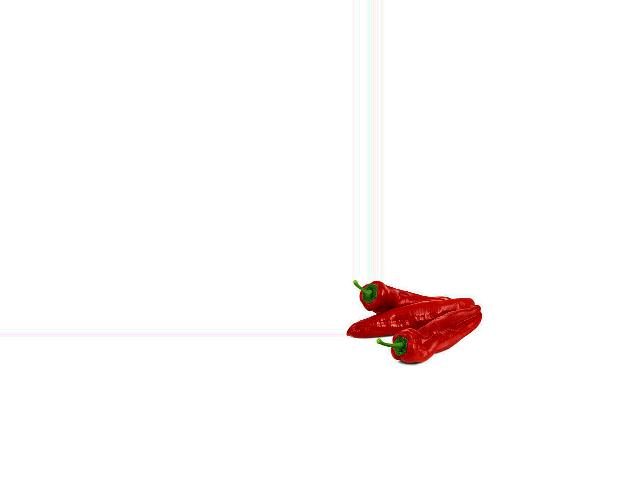bell_pepper: (374, 317, 483, 366)
